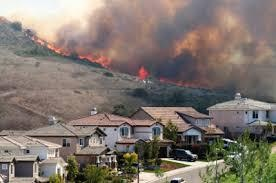fire: (31, 32, 112, 66)
